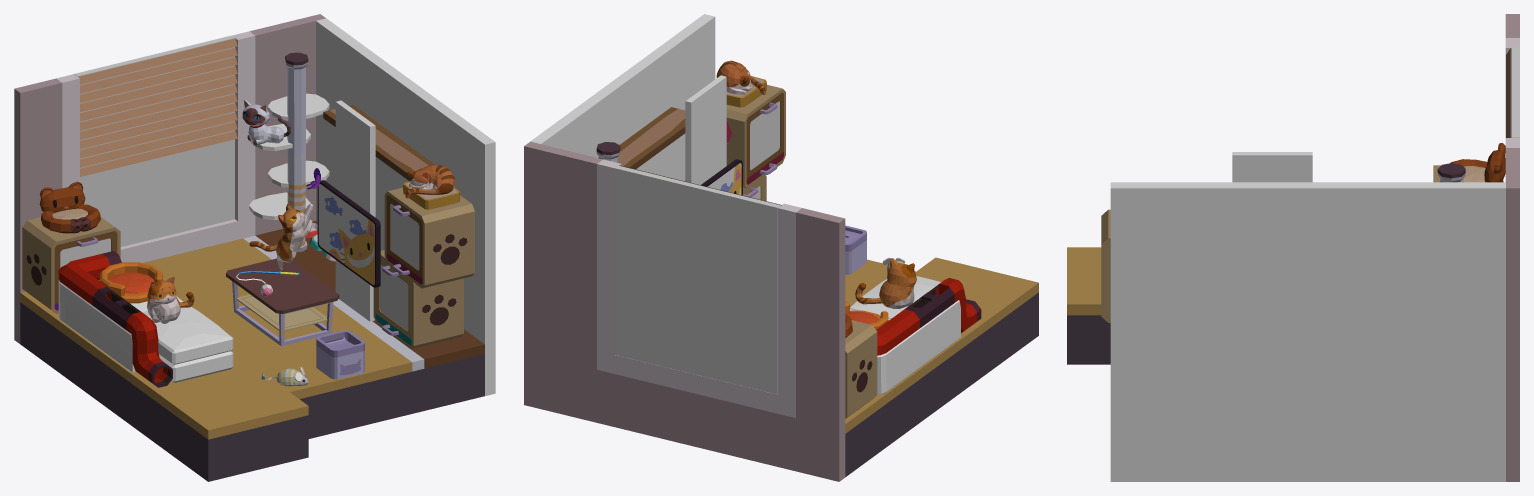
File: 0017_catRoom.fbx
3 renders of one model, left to right at view 1: azimuth 30°, elevation 25°; view 2: azimuth 150°, elevation 25°; view 3: azimuth 270°, elevation 25°, orthographic. The views are drawn at different scales.
Parts seen in each view (by area): view 1: Floor, Wall01, Wall02, Window_Glass, CatToiletBox (×3), TV_Wall, TV, Table01, CatHome_Glass (×3), Sofa_Seat, Sofa_Back, CatTree_Post02 (+25 smaller); view 2: Wall01, Window_Glass, Floor, Wall02, CatToiletBox (×2), TV_Wall, Sofa_Back, Wall02_Shelf, CatHome_Glass, CatTunnel_Red02, Cat01_Body, Sofa_Seat (+9 smaller); view 3: Wall02, Wall01, Floor, TV_Wall, CatToiletBox, Window_Glass, Cushion_Bear_Head, Cushion_Bear_Seat, CatTree_Post02.
Part boxes in pixels (x1,y1,x2,y2): Floor: (20, 221, 484, 481); Wall01: (14, 14, 325, 343); Wall02: (316, 18, 495, 395); Window_Glass: (74, 35, 234, 246); CatToiletBox (×3): (22, 187, 474, 348); TV_Wall: (335, 100, 375, 321); TV: (317, 180, 380, 287); Table01: (226, 258, 339, 313); CatHome_Glass (×3): (60, 203, 419, 330); Sofa_Seat: (142, 307, 233, 364); Sofa_Back: (58, 280, 135, 372); CatTree_Post02: (285, 52, 308, 156); Wall01: (524, 141, 845, 481); Window_Glass: (615, 166, 780, 394); Floor: (845, 257, 1038, 476); Wall02: (530, 14, 715, 180); CatToiletBox (×2): (726, 85, 877, 418); TV_Wall: (685, 75, 726, 184); Sofa_Back: (877, 300, 960, 394); Wall02_Shelf: (618, 107, 685, 169); CatHome_Glass: (750, 101, 779, 169); CatTunnel_Red02: (876, 309, 919, 355); Cat01_Body: (855, 280, 914, 308); Sofa_Seat: (849, 276, 940, 319); Wall02: (1110, 182, 1505, 481); Wall01: (1505, 14, 1519, 481); Floor: (1067, 247, 1110, 364); TV_Wall: (1232, 152, 1312, 182); CatToiletBox: (1101, 209, 1110, 322); Window_Glass: (1512, 47, 1519, 137); Cushion_Bear_Head: (1484, 143, 1505, 182); Cushion_Bear_Seat: (1450, 159, 1503, 182); CatTree_Post02: (1437, 163, 1465, 182).
Size of the model in its own units: 7.97 by 6.26 by 8.74.
